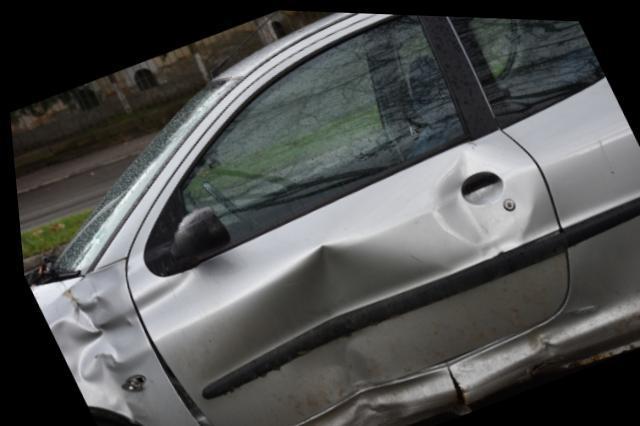crack: (440, 363, 463, 400)
dent: (236, 241, 449, 399), (43, 282, 141, 417), (430, 142, 529, 247), (132, 262, 235, 330), (345, 386, 406, 426)
